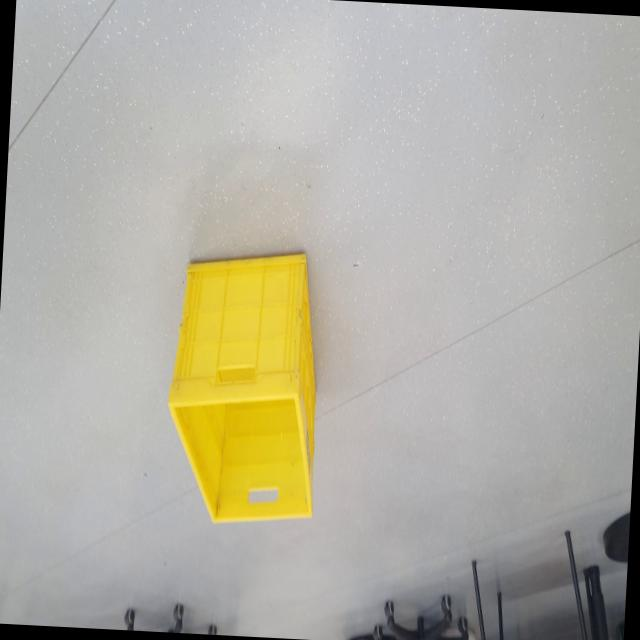box: (154, 216, 332, 543)
